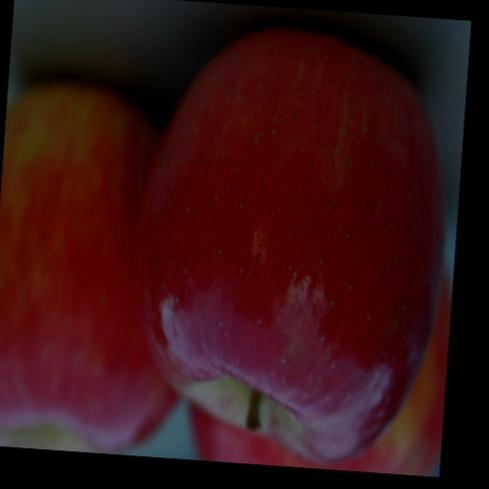red apple: (143, 27, 441, 460)
